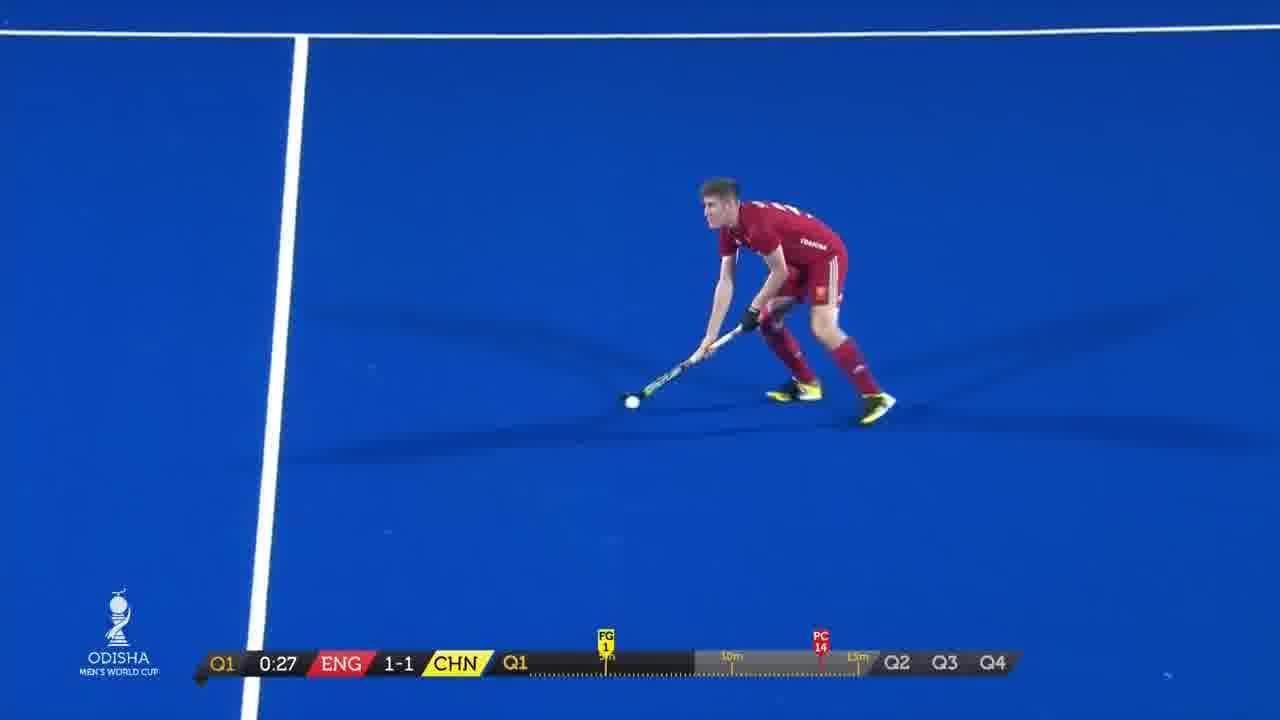ball: (621, 379, 656, 419)
